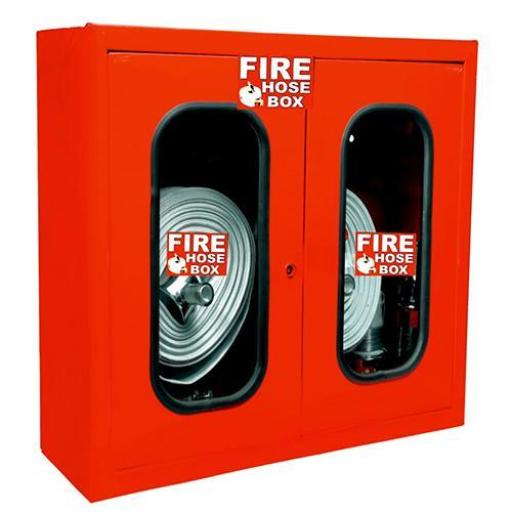fire_hose: (33, 16, 482, 504)
